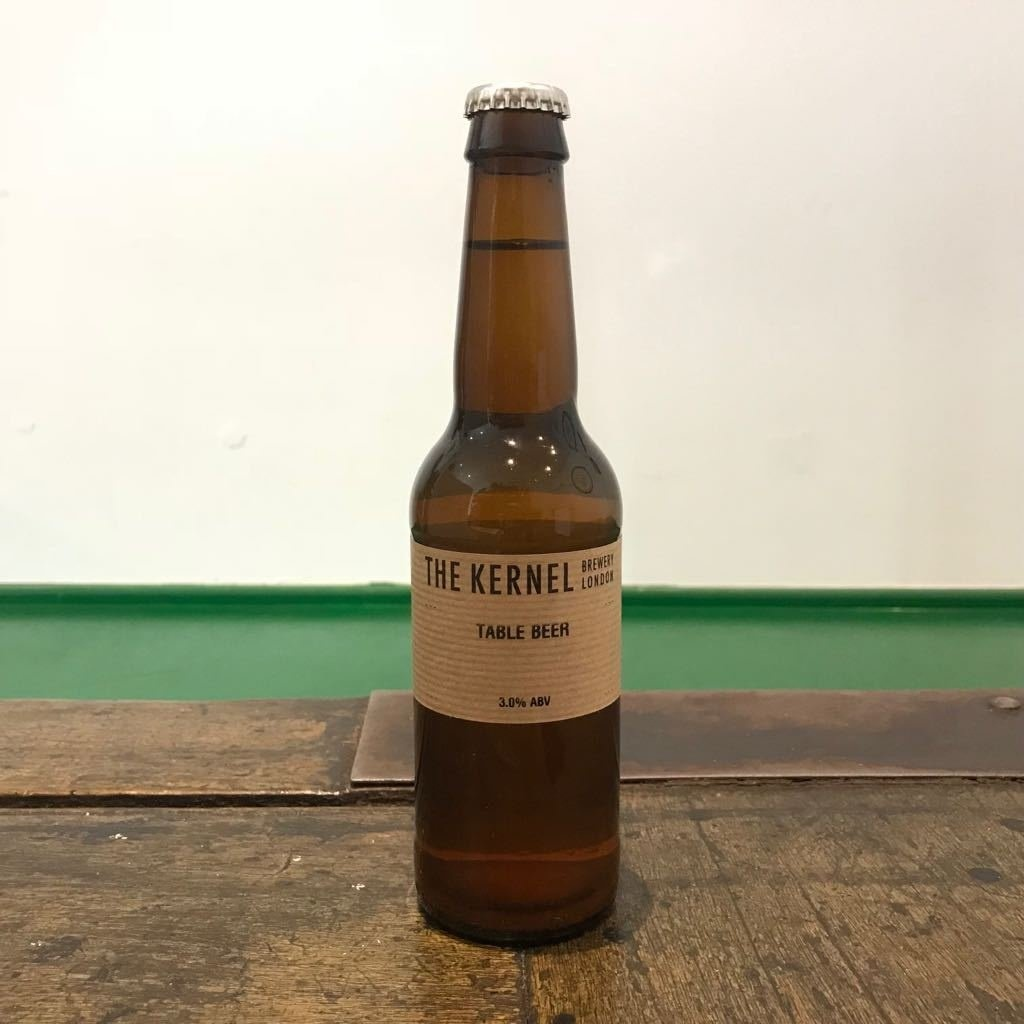beerBottle: (409, 91, 622, 935)
